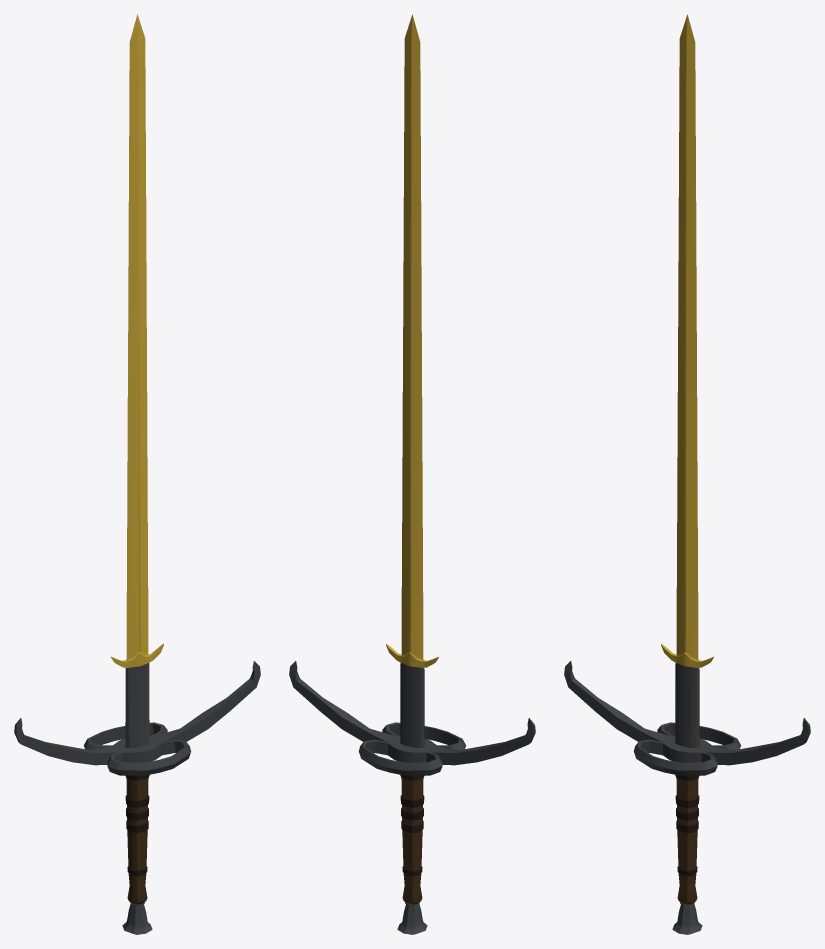
File: SM_Sword20_Zweihander_2Gold.fbx
The picture shows the model from 3 angles, left to right: view 1: azimuth 30°, elevation 25°; view 2: azimuth 150°, elevation 25°; view 3: azimuth 330°, elevation 25°; orthographic projection.
Visible parts, largest first — view 1: Cube.018, Cylinder.326, Cylinder.327, Cylinder.328, Sphere.079; view 2: Cube.018, Cylinder.326, Cylinder.327, Cylinder.328, Sphere.079; view 3: Cube.018, Cylinder.326, Cylinder.327, Cylinder.328, Sphere.079.
Boxes of the visible parts, bbox=[...] form: Cube.018: bbox=[111, 14, 163, 667]; Cylinder.326: bbox=[14, 661, 260, 775]; Cylinder.327: bbox=[125, 775, 149, 904]; Cylinder.328: bbox=[125, 663, 149, 747]; Sphere.079: bbox=[122, 902, 152, 934]; Cube.018: bbox=[386, 14, 438, 667]; Cylinder.326: bbox=[289, 661, 535, 775]; Cylinder.327: bbox=[400, 775, 424, 904]; Cylinder.328: bbox=[400, 663, 424, 747]; Sphere.079: bbox=[397, 902, 427, 934]; Cube.018: bbox=[661, 14, 713, 667]; Cylinder.326: bbox=[564, 661, 810, 775]; Cylinder.327: bbox=[675, 775, 699, 904]; Cylinder.328: bbox=[675, 663, 699, 747]; Sphere.079: bbox=[672, 902, 702, 934].
Bounding box in the file's own units: 0.4658 × 1.68 × 0.1577.
